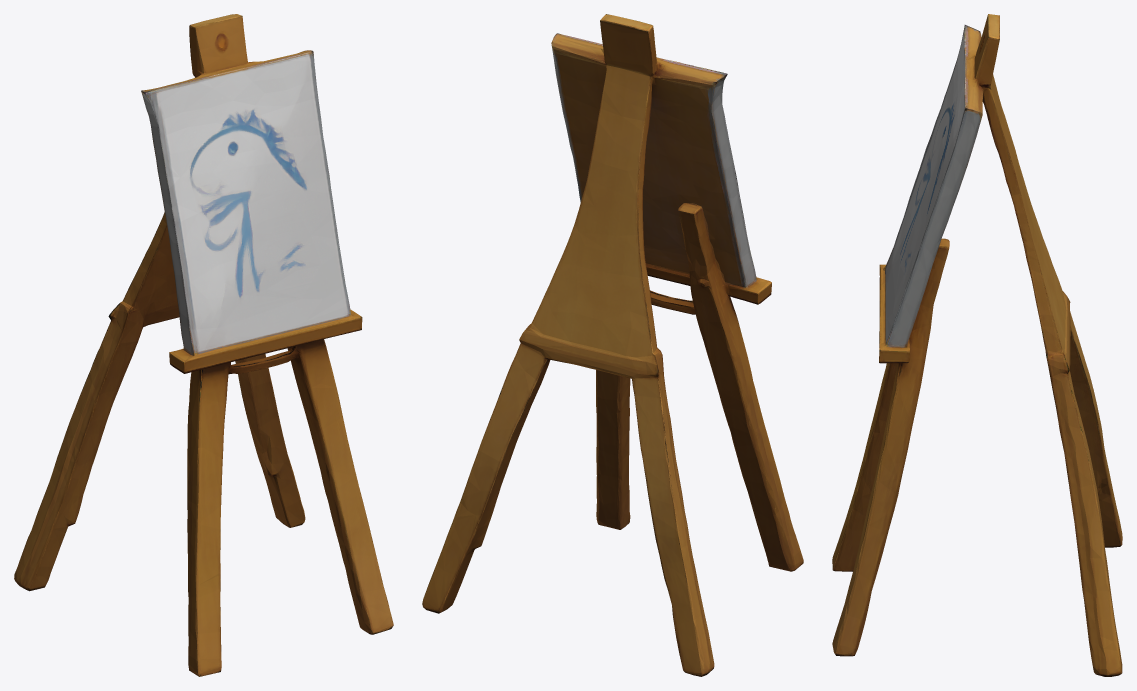
3 views of the same model, side by side, from view 1: azimuth 30°, elevation 25°; view 2: azimuth 150°, elevation 25°; view 3: azimuth 270°, elevation 25° (orthographic).
Parts seen in each view (by area): view 1: geometry_0; view 2: geometry_0; view 3: geometry_0.
Part boxes in pixels (box(x1,y1,x2,y2)): geometry_0: box(14, 14, 393, 676); geometry_0: box(422, 14, 803, 676); geometry_0: box(832, 14, 1122, 676).
Bounding box in the file's own units: 0.5159 × 0.9981 × 0.45.
Materials: 1 (1 with a texture image).
